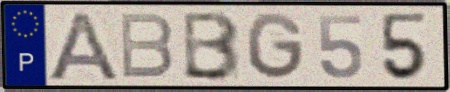5: (378, 11, 430, 83), (315, 13, 365, 80)
A: (44, 9, 122, 82)
B: (180, 9, 243, 83), (117, 11, 175, 81)
G: (244, 10, 307, 82)
